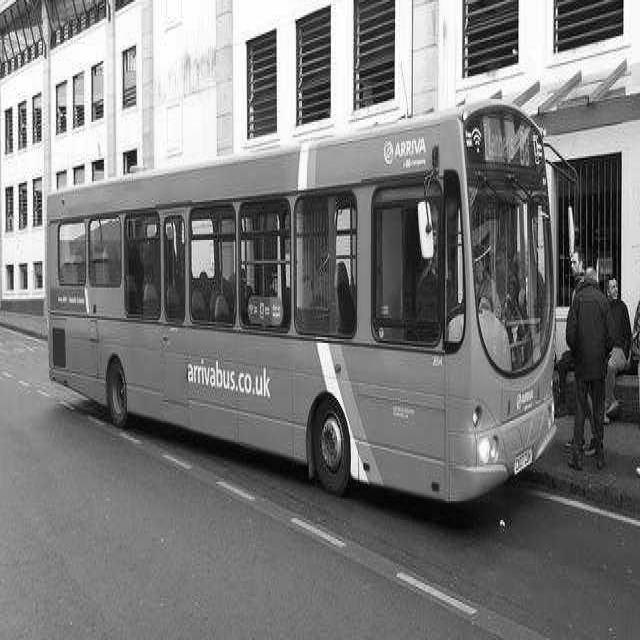Bus: (46, 105, 555, 501)
